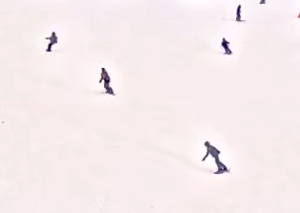skier: (214, 32, 242, 60), (228, 3, 250, 25)
snowboarder: (191, 134, 240, 180), (91, 62, 123, 101), (35, 28, 64, 56)
